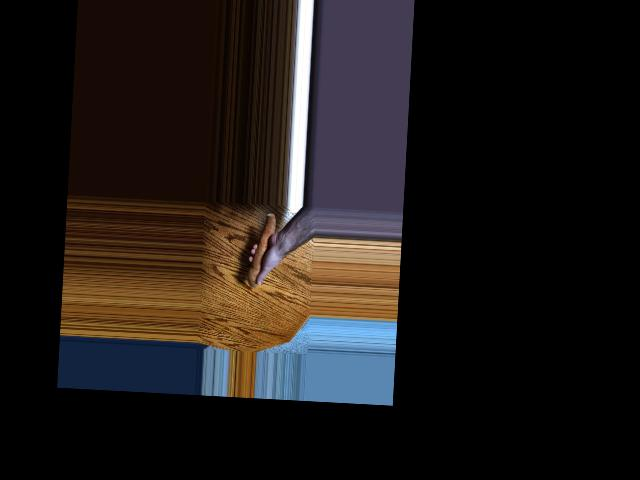sweet_potato: (246, 211, 277, 287)
